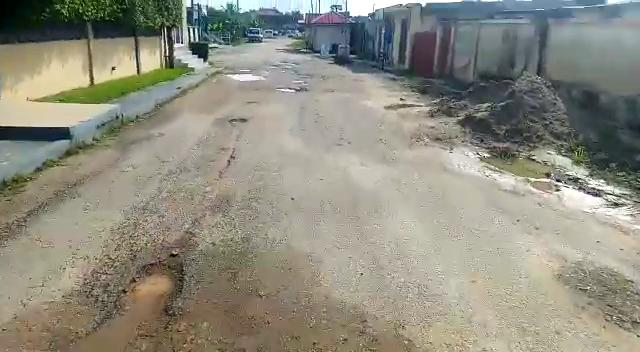pothole: (68, 258, 188, 352), (220, 73, 265, 82), (273, 85, 306, 93)
